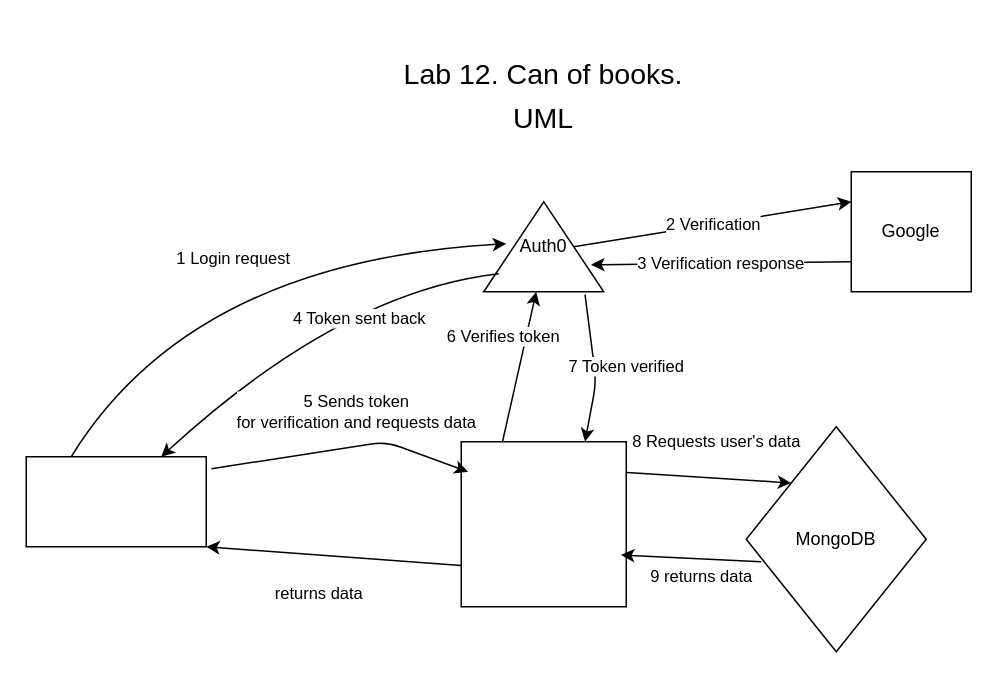
This 998x678 diagram has some shape labels left out. Each missing label, with the centre of its shape:
"Client" goes at pixel 115 501.
"Server" goes at pixel 543 523.
